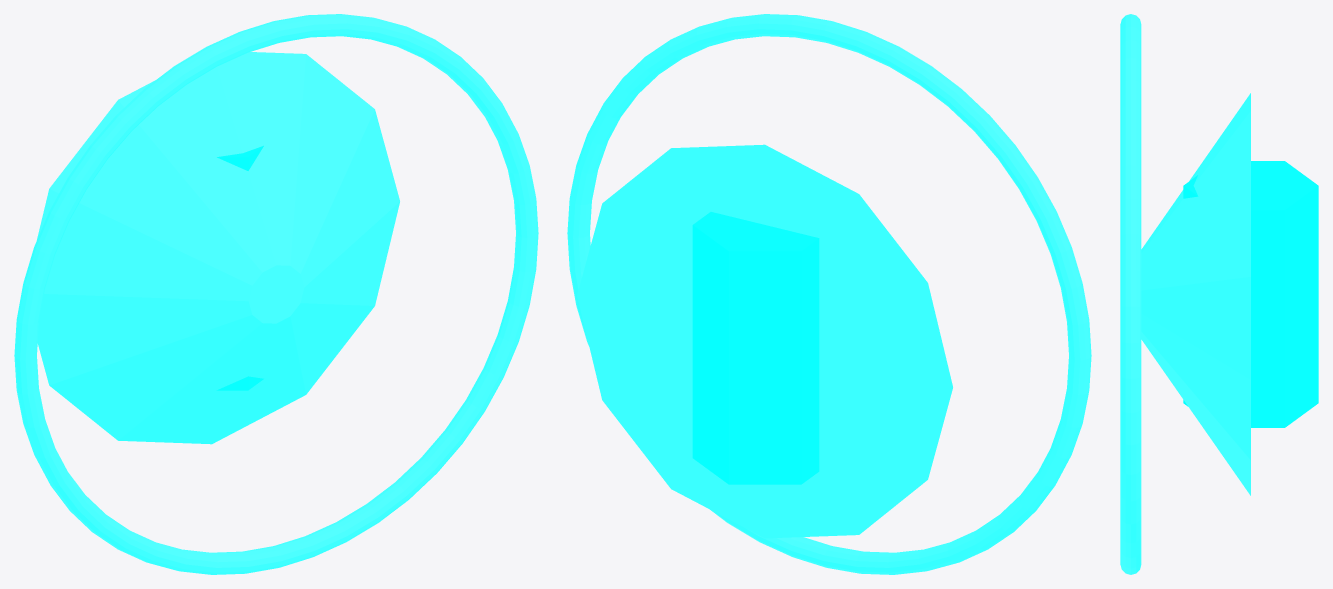
Rendered from anomaly_wave.glb.
3 renders of one model, left to right at view 1: azimuth 30°, elevation 25°; view 2: azimuth 150°, elevation 25°; view 3: azimuth 270°, elevation 25°, orthographic. The views are drawn at different scales.
Parts seen in each view (by area): view 1: Cone, Torus, Cylinder; view 2: Cone, Cylinder, Torus; view 3: Cone, Cylinder, Torus.
Boxes of the visible parts, x1,y1,x2,y2 form: Cone: (37,52,399,444); Torus: (14,14,538,574); Cylinder: (216,145,263,390); Cone: (577,144,952,538); Cylinder: (692,212,819,484); Torus: (567,14,1091,574); Cone: (1141,93,1250,495); Cylinder: (1183,161,1318,427); Torus: (1120,14,1141,574).
Bounding box in the file's own units: 3.74 × 3.74 × 1.32.
